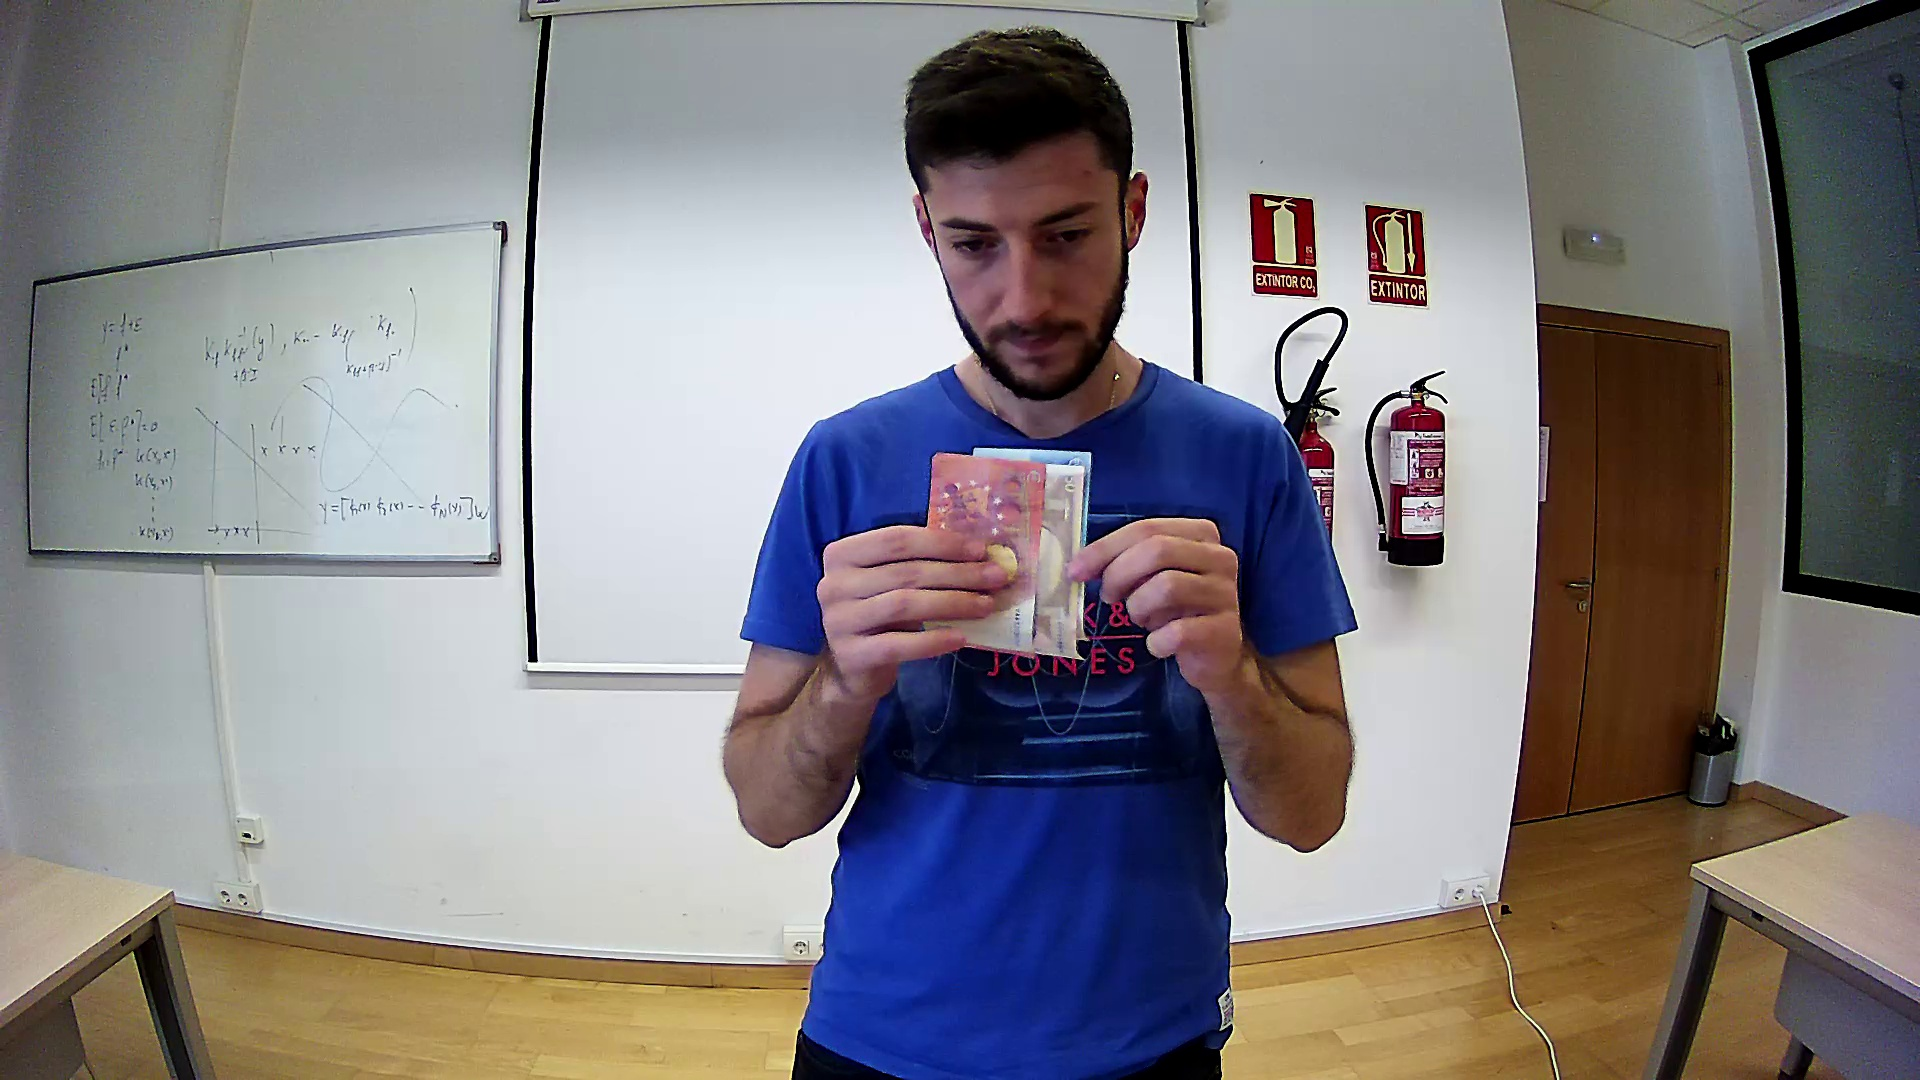billete: (920, 451, 1048, 659), (971, 447, 1095, 661)
